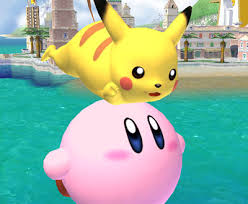pikachu: (38, 1, 196, 104)
